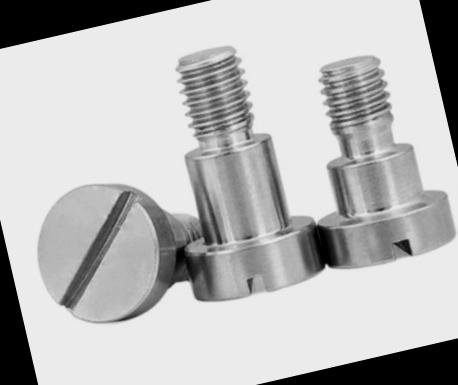slotted: (23, 164, 192, 338)
